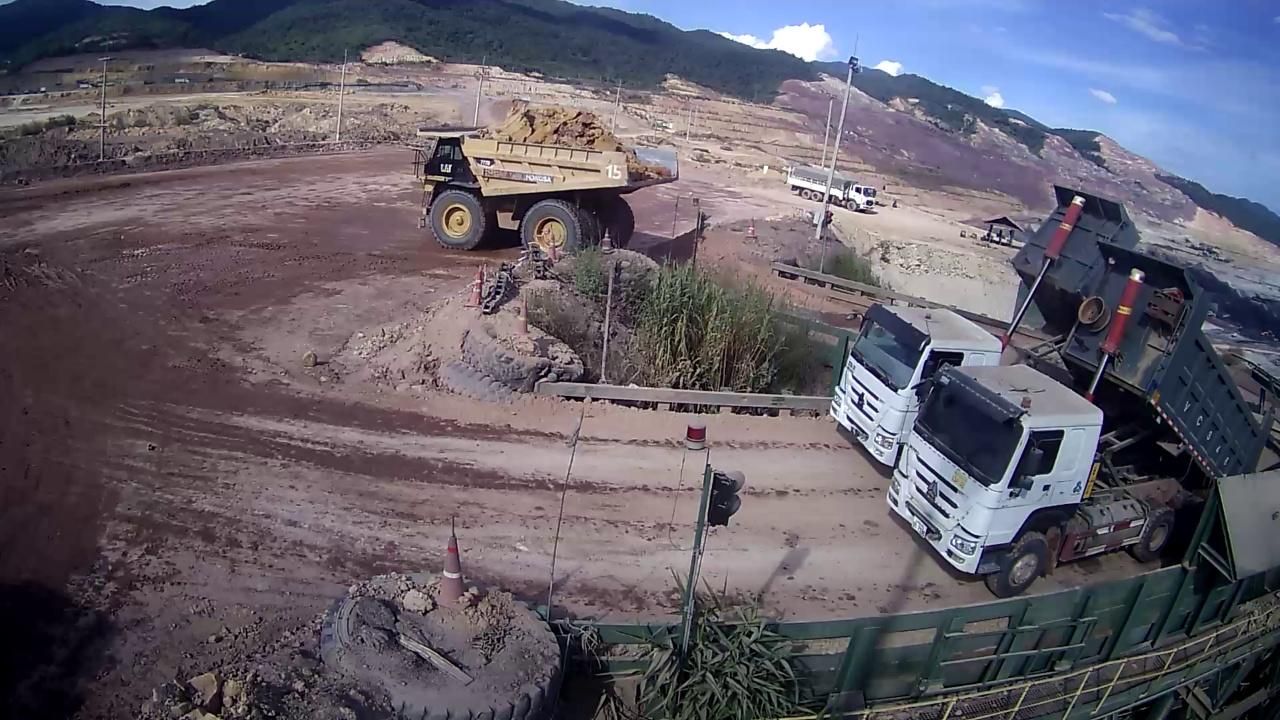company: (476, 169, 566, 187)
full_load: (483, 98, 652, 151)
mining_truck: (410, 94, 679, 256)
tail_number: (603, 163, 626, 183)
truck_size: (472, 152, 499, 170)
